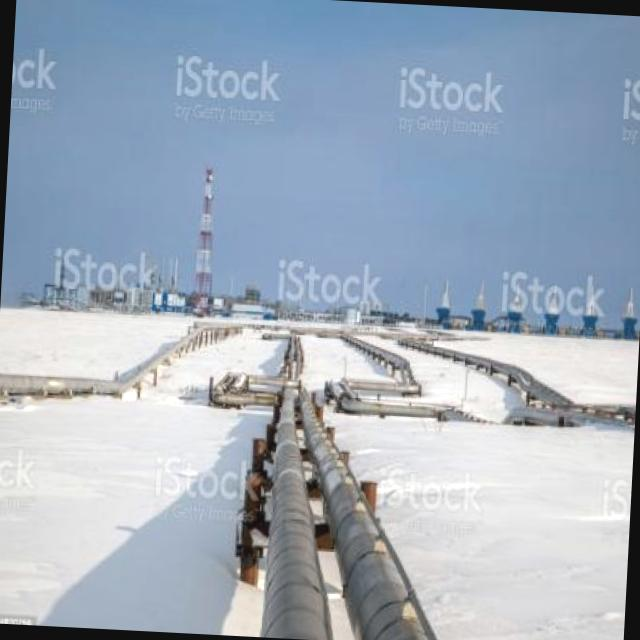gas: (327, 526, 454, 640), (256, 511, 341, 640), (311, 451, 403, 537), (414, 338, 534, 392), (502, 395, 624, 433), (272, 404, 314, 514), (340, 392, 448, 434), (334, 327, 412, 378), (0, 371, 117, 401), (121, 342, 178, 392), (298, 398, 340, 462), (208, 385, 277, 409), (180, 322, 236, 351)
